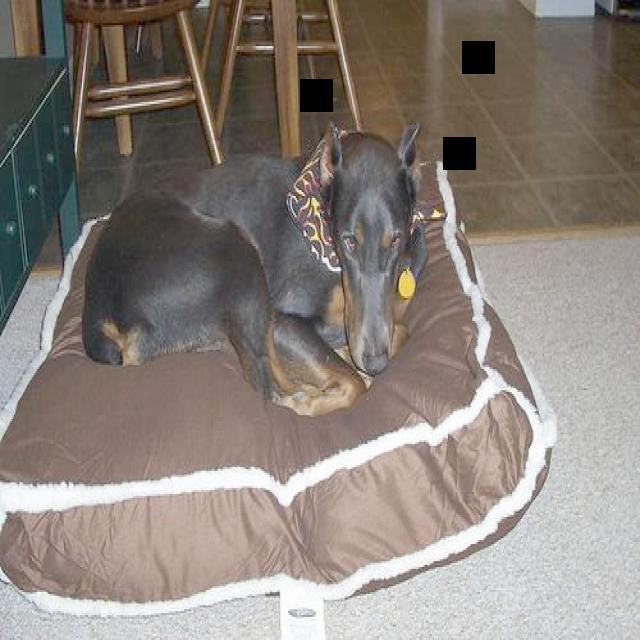adult_dog: (84, 116, 422, 417)
